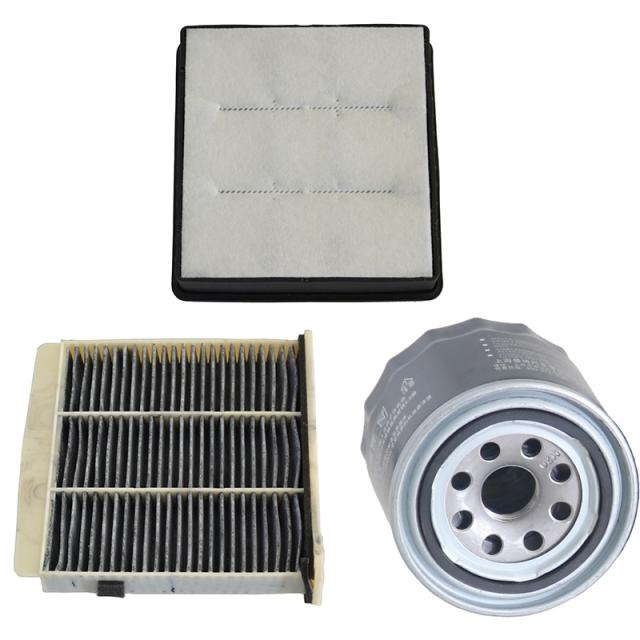air_filter: (15, 322, 326, 610), (168, 23, 444, 309)
oil_filter: (358, 310, 640, 620)
